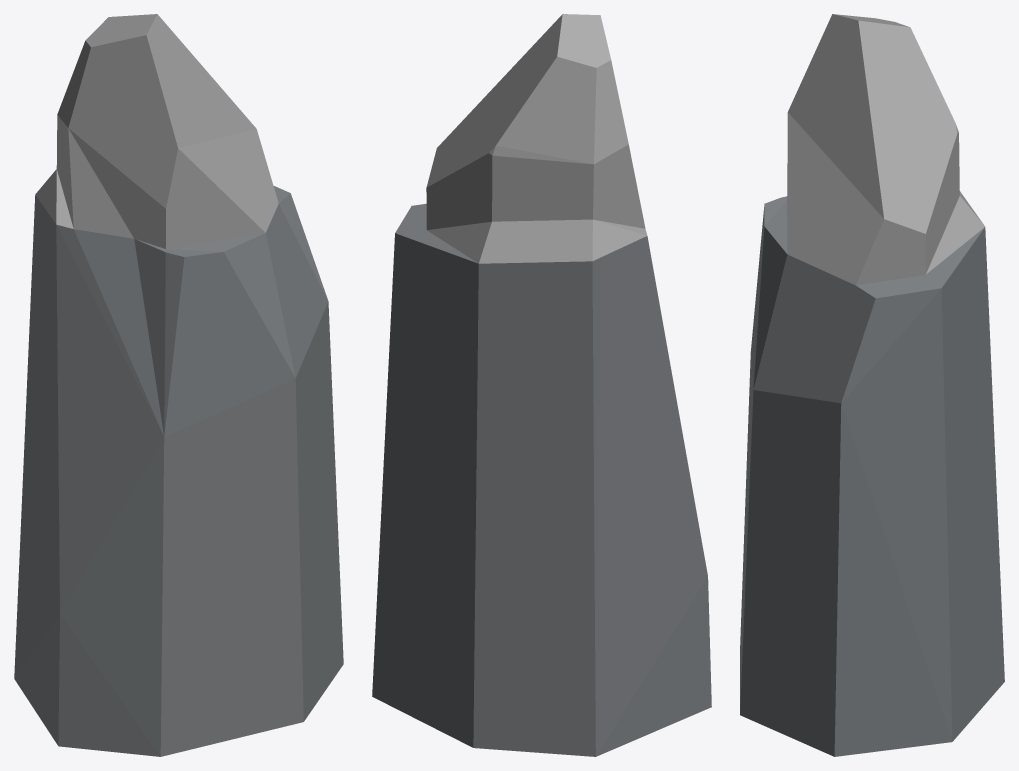
The model's file is Rock_Round_l_06.fbx.
3 renders of one model, left to right at view 1: azimuth 30°, elevation 25°; view 2: azimuth 150°, elevation 25°; view 3: azimuth 270°, elevation 25°, orthographic. The views are drawn at different scales.
Parts seen in each view (by area): view 1: Rock_Round_l_06; view 2: Rock_Round_l_06; view 3: Rock_Round_l_06.
Part boxes in pixels (x1,y1,x2,y2): Rock_Round_l_06: (14, 14, 343, 756); Rock_Round_l_06: (372, 14, 711, 756); Rock_Round_l_06: (740, 14, 1004, 756).
Bounding box in the file's own units: 102 × 224 × 82.11.
